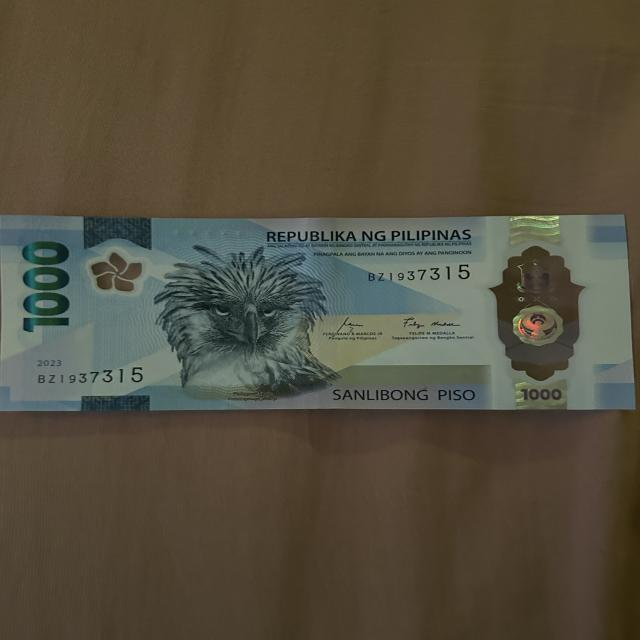clear_window: (494, 240, 586, 380)
eagle: (156, 241, 322, 389)
sampaguita: (83, 253, 144, 294)
